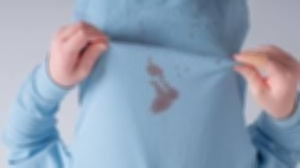blood: (146, 59, 178, 114)
